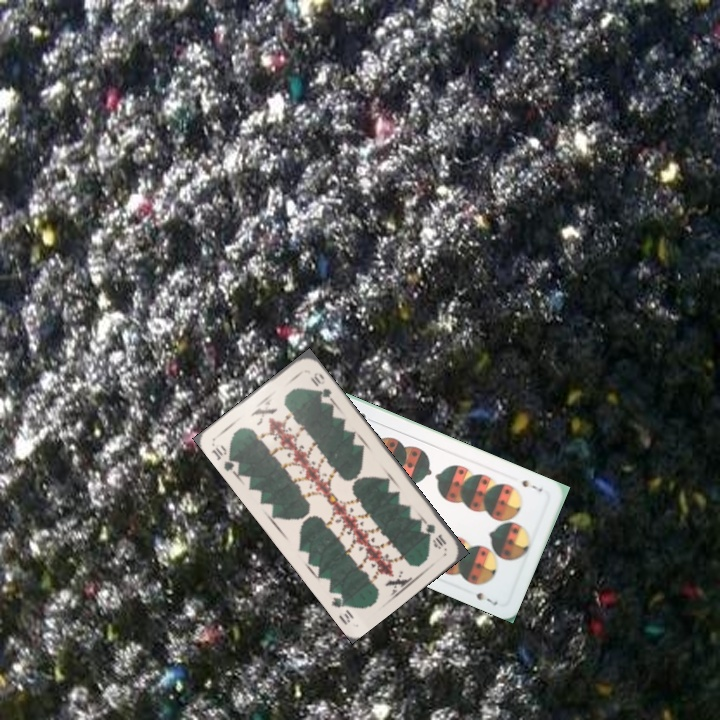G10: (417, 516, 449, 551), (207, 441, 239, 476)
S7: (518, 476, 545, 494)
